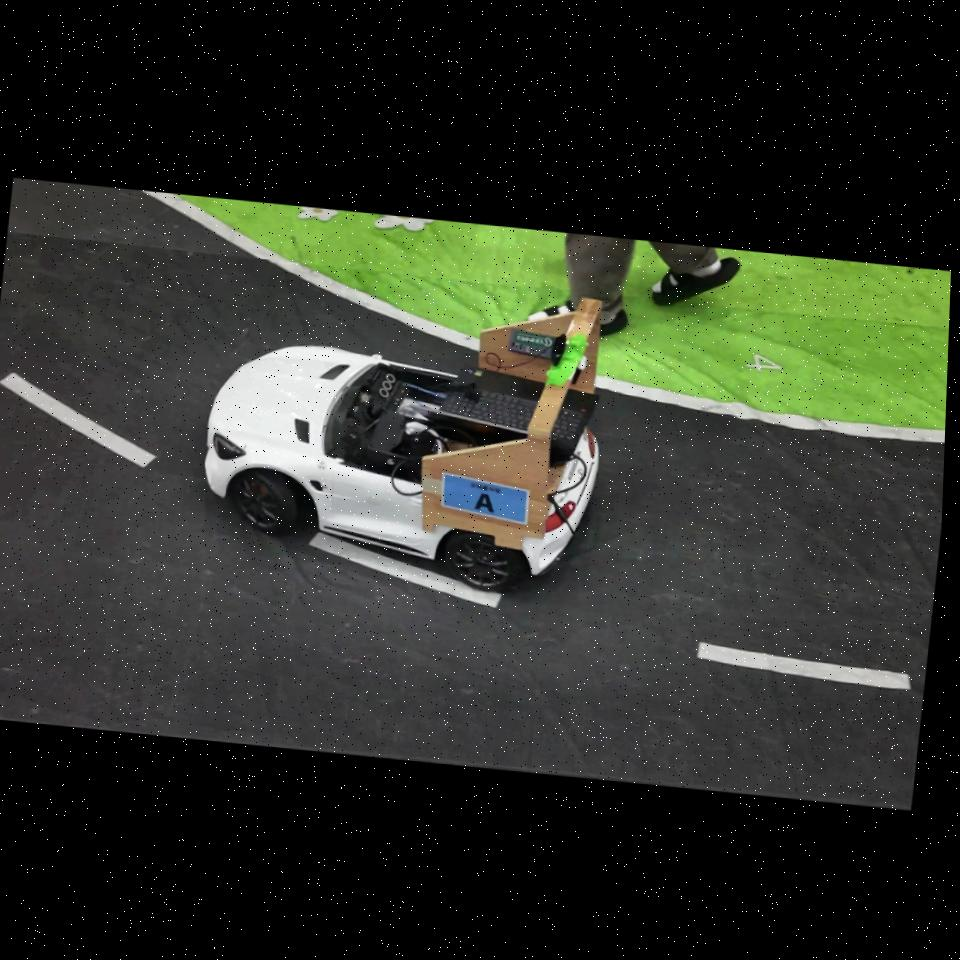broken_line: (0, 372, 157, 468), (308, 532, 502, 608), (696, 642, 911, 690)
